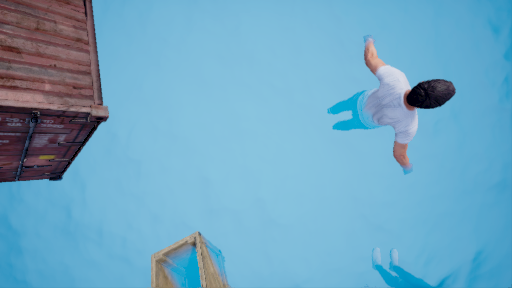person: (322, 37, 448, 175)
